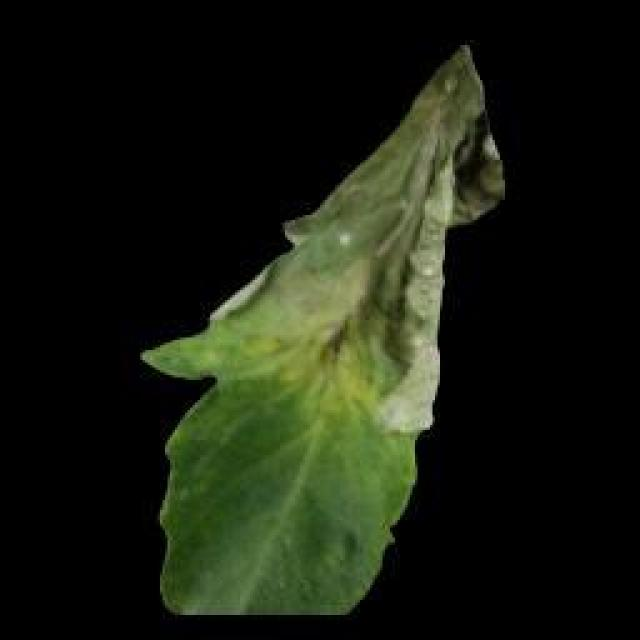Tomato late blight leaf: (144, 45, 504, 617)
